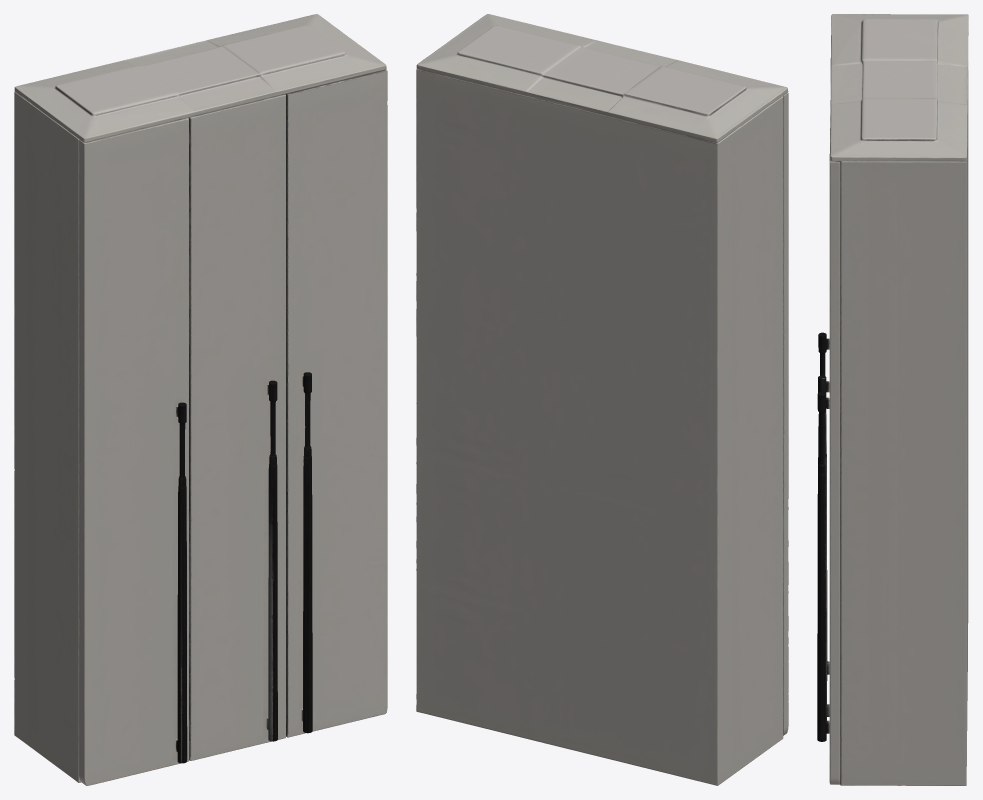
The model's file is No Name-06.glb.
3 views of the same model, side by side, from view 1: azimuth 30°, elevation 25°; view 2: azimuth 150°, elevation 25°; view 3: azimuth 270°, elevation 25° (orthographic). The views are drawn at different scales.
Parts seen in each view (by area): view 1: tripo_node_756ae079-8d1f-4d06-8476-973fc8fe84ca; view 2: tripo_node_756ae079-8d1f-4d06-8476-973fc8fe84ca; view 3: tripo_node_756ae079-8d1f-4d06-8476-973fc8fe84ca.
Boxes of the visible parts, bbox=[...] form: tripo_node_756ae079-8d1f-4d06-8476-973fc8fe84ca: bbox=[14, 14, 387, 785]; tripo_node_756ae079-8d1f-4d06-8476-973fc8fe84ca: bbox=[416, 14, 788, 785]; tripo_node_756ae079-8d1f-4d06-8476-973fc8fe84ca: bbox=[817, 14, 968, 785].
Size of the model in its own units: 0.4747 by 0.9795 by 0.2113.
1 material, 1 textured.
